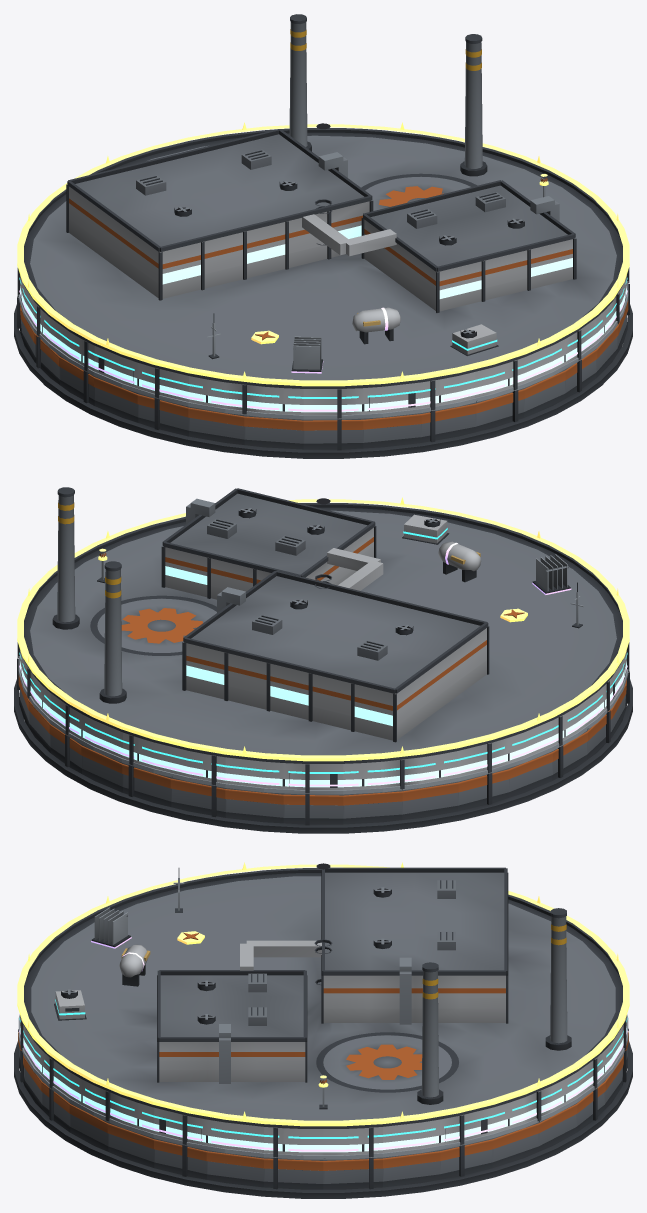
Rendered from electronics_fab_xl_far.glb.
The picture shows the model from 3 angles, top to bottom: view 1: azimuth 30°, elevation 25°; view 2: azimuth 150°, elevation 25°; view 3: azimuth 270°, elevation 25°; orthographic projection.
Parts seen in each view (by area): view 1: Roof, Base, L5, L4, L2, L3; view 2: Roof, Base, L5, L4, L2, L3; view 3: Roof, Base, L5, L4, L2, L3.
Part boxes in pixels (x1=…): Roof: x1=17, y1=14, x2=629, y2=418; Base: x1=14, y1=284, x2=632, y2=458; L5: x1=17, y1=122, x2=629, y2=386; L4: x1=19, y1=290, x2=627, y2=411; L2: x1=18, y1=281, x2=628, y2=419; L3: x1=19, y1=243, x2=627, y2=398; Roof: x1=17, y1=487, x2=629, y2=793; Base: x1=14, y1=658, x2=632, y2=833; L5: x1=17, y1=497, x2=629, y2=761; L4: x1=19, y1=541, x2=627, y2=786; L2: x1=18, y1=582, x2=628, y2=794; L3: x1=19, y1=514, x2=627, y2=773; Roof: x1=20, y1=863, x2=626, y2=1157; Base: x1=14, y1=1028, x2=632, y2=1198; L5: x1=17, y1=862, x2=629, y2=1126; L4: x1=19, y1=907, x2=627, y2=1151; L2: x1=18, y1=868, x2=628, y2=1159; L3: x1=19, y1=979, x2=627, y2=1138.
Size of the model in its own units: 23.15 by 8.32 by 23.15.
